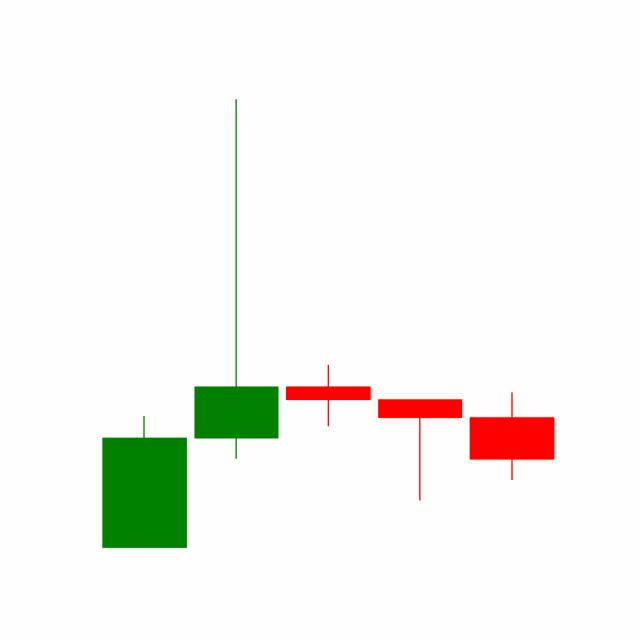Hammer: (373, 398, 467, 502)
